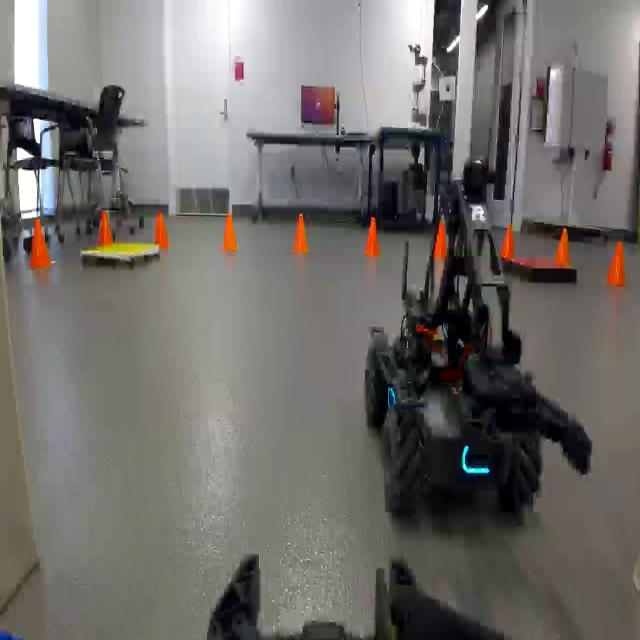cone: (605, 237, 631, 294), (26, 221, 54, 269), (290, 209, 312, 259), (363, 214, 384, 260), (220, 210, 240, 254), (552, 225, 572, 268), (431, 217, 451, 260), (152, 210, 171, 249), (96, 211, 114, 246), (499, 224, 517, 259)
red: (503, 258, 575, 282)
robot: (362, 158, 592, 524)
yellow goal: (79, 244, 164, 272)
